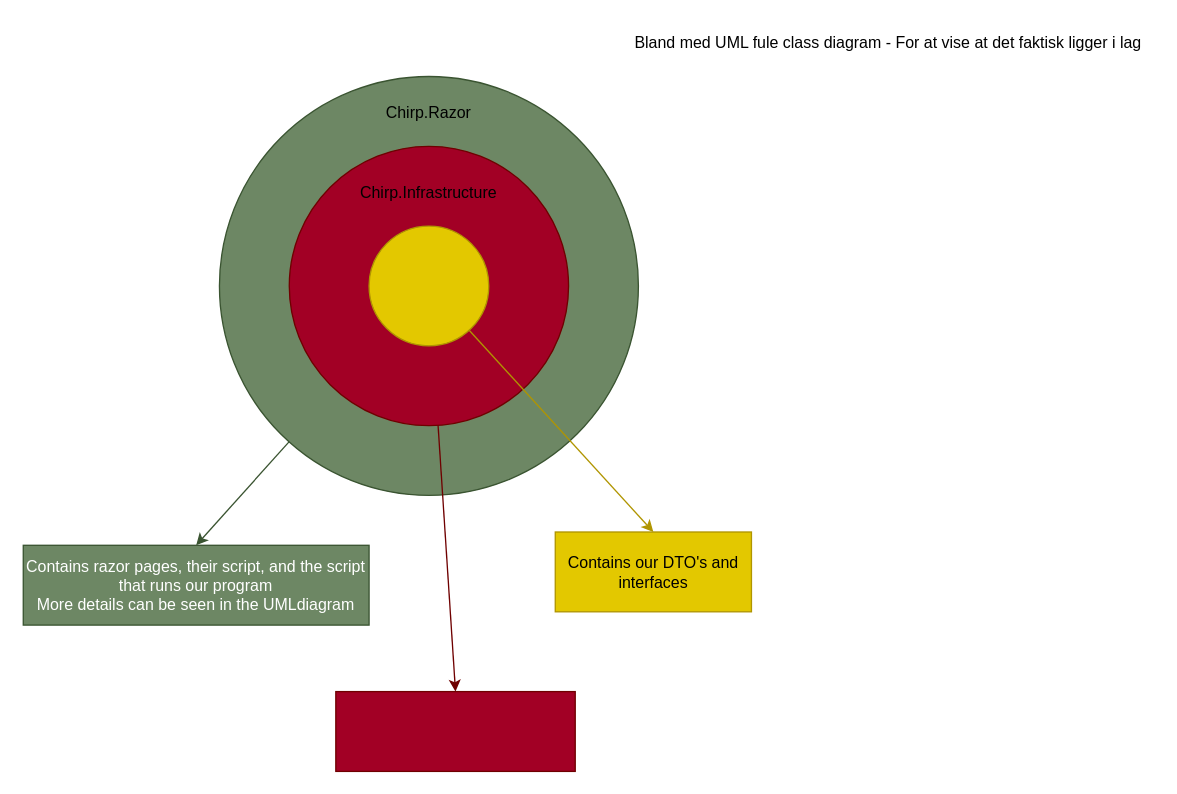
The diagram is 1177 pixels wide and 794 high, and some of its shapes have lost their labels. The shapes that lost their labels are listed below. From the top down, each one's centre as x and y in pixels, then its label:
At (428,285): "Chirp.Core".
At (454,730): "Contains our context, repositories and data models".
